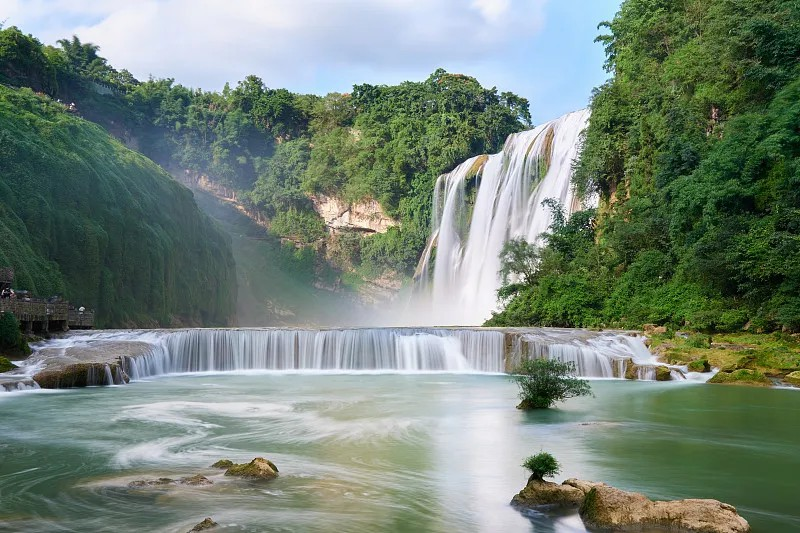Huangguoshu: (427, 109, 602, 326)
